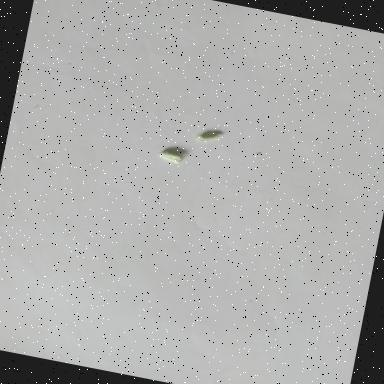pbw: (194, 130, 222, 144), (159, 150, 183, 166)
